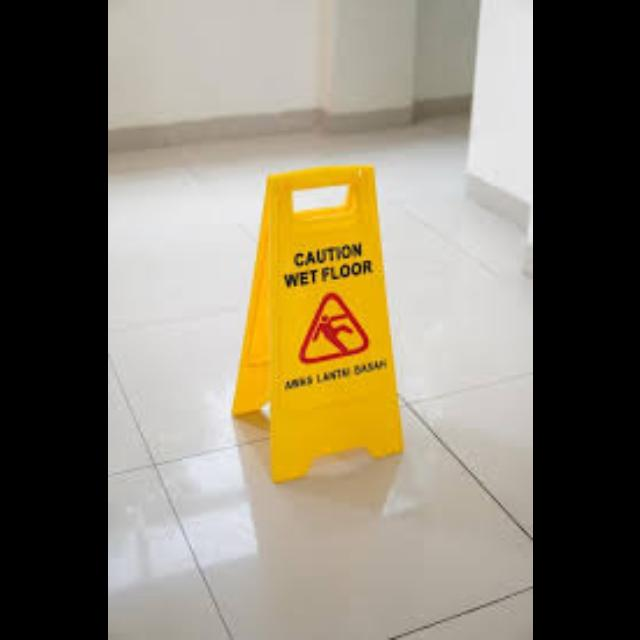slippery_floor: (233, 165, 400, 479)
